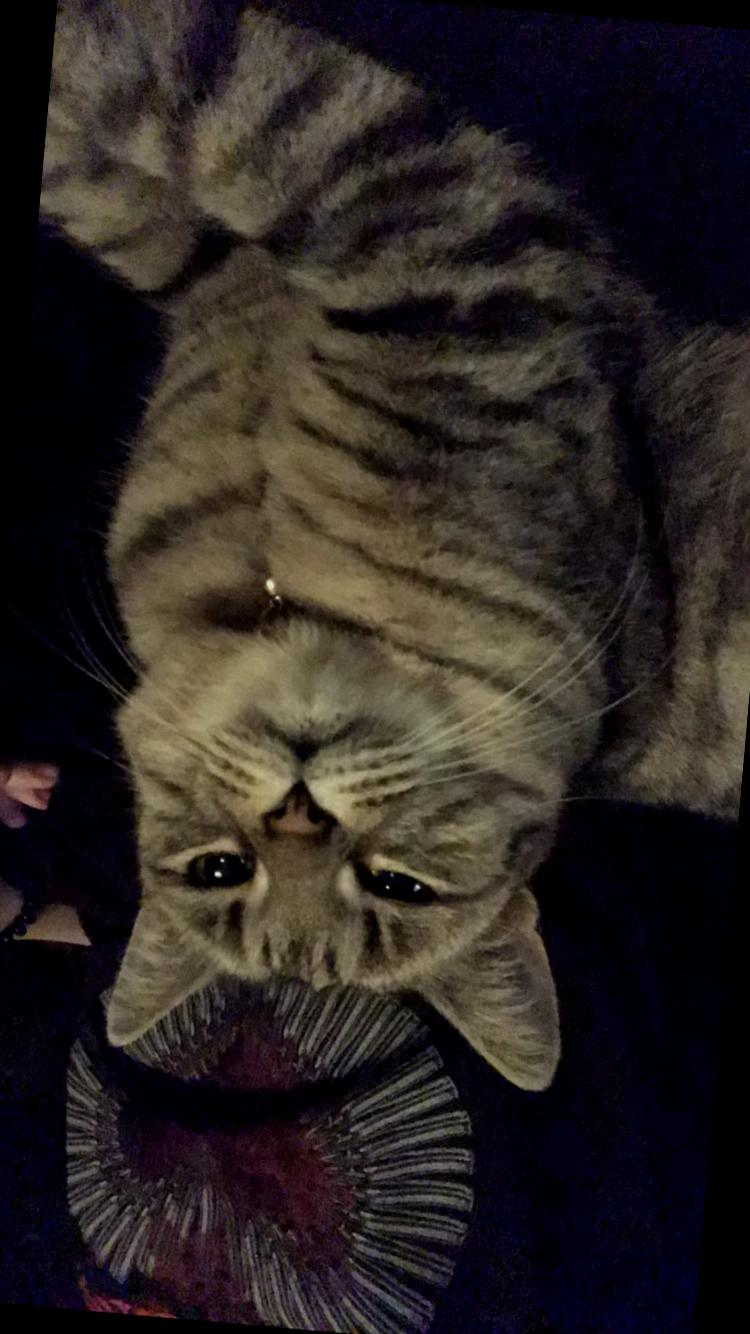macka: (0, 0, 750, 1107)
